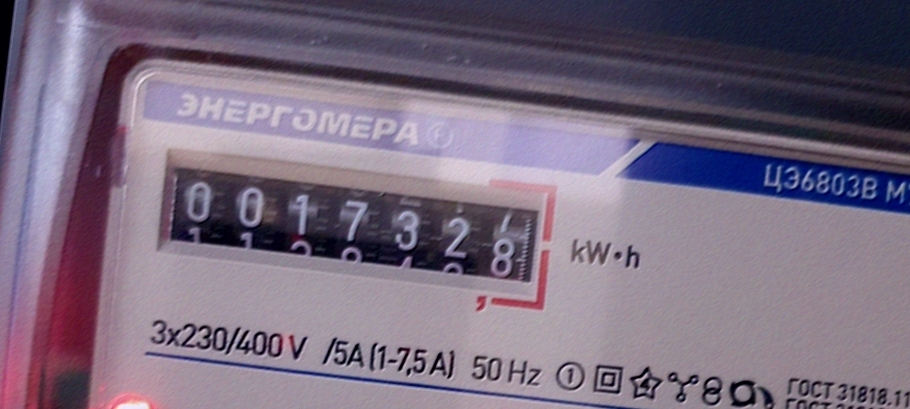0: (181, 179, 218, 227), (234, 183, 269, 232)
1: (288, 191, 315, 239)
2: (439, 215, 474, 263)
3: (391, 208, 423, 255)
7: (338, 198, 370, 247)
8: (487, 236, 517, 281)
screen: (144, 142, 566, 318)
